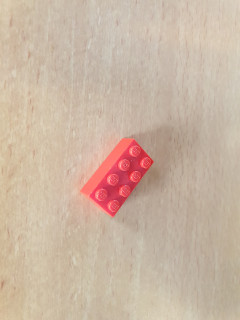2x4 red: (78, 135, 156, 217)
